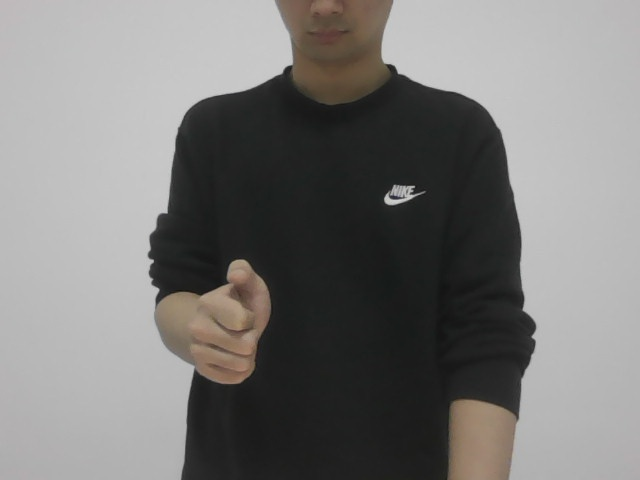thank you: (189, 258, 277, 390)
